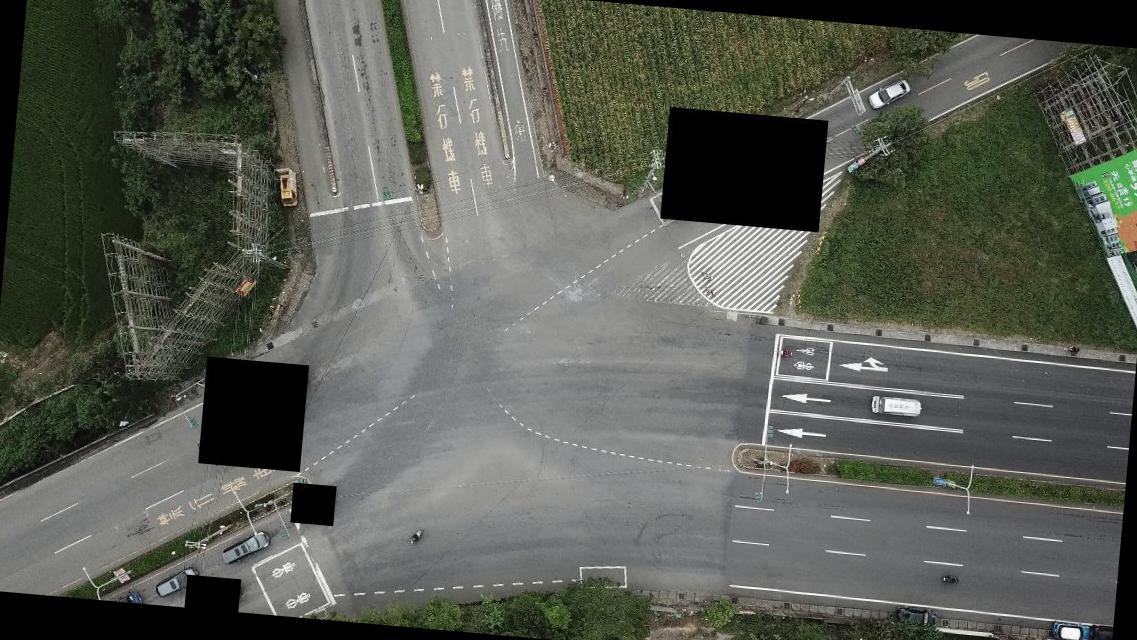vehicle: (220, 526, 272, 566), (153, 564, 199, 603), (866, 76, 910, 110), (868, 392, 922, 419), (894, 602, 939, 628), (276, 173, 300, 210), (1048, 622, 1090, 639), (1089, 624, 1113, 639)
